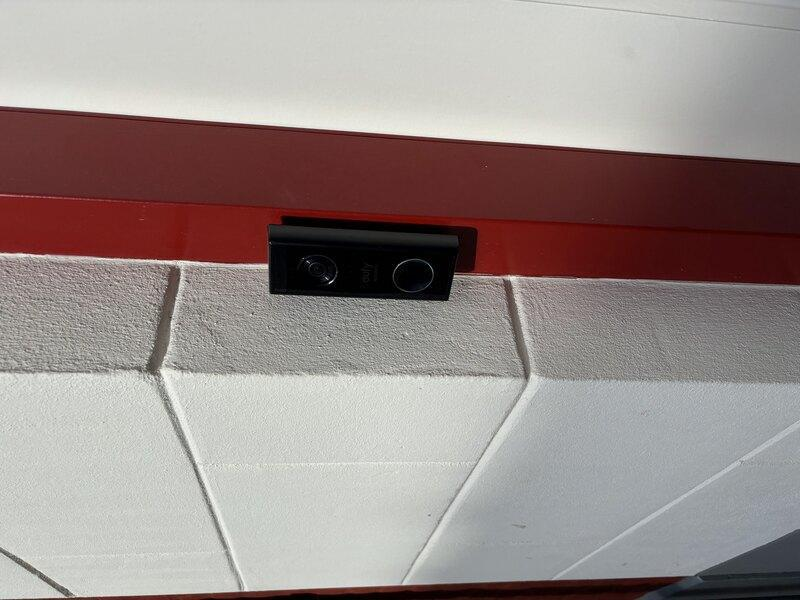doorbell: (293, 258, 379, 470)
